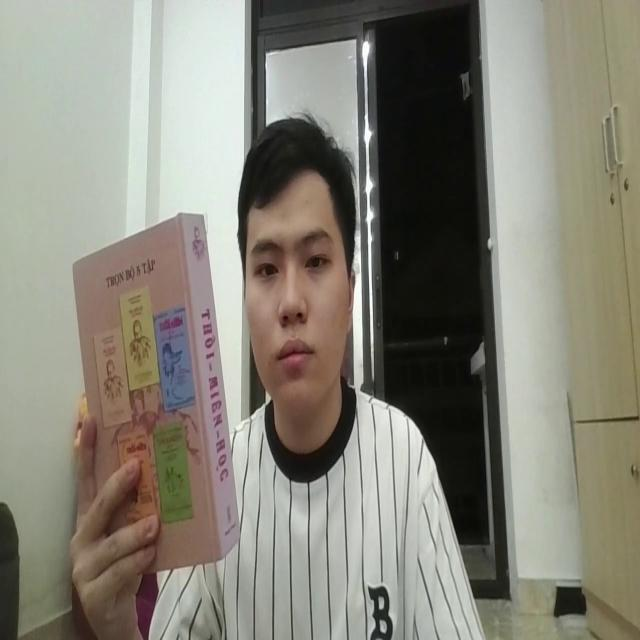book: (74, 206, 244, 566)
student: (69, 108, 485, 640)
